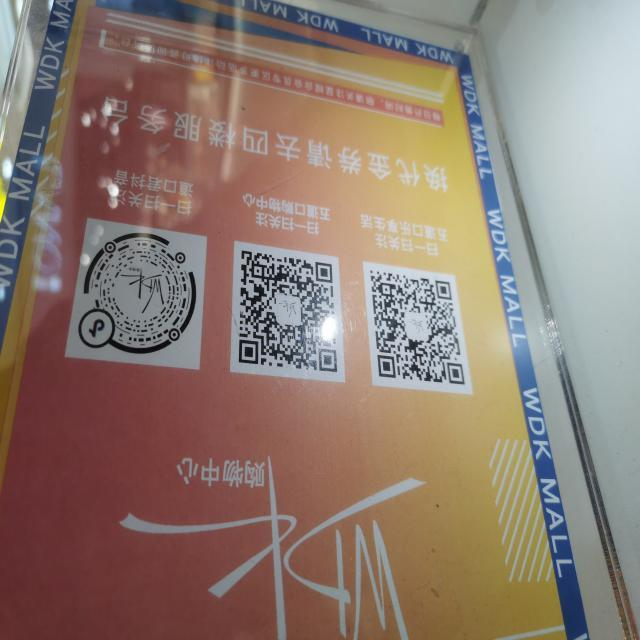qr_code: (238, 250, 338, 372), (369, 270, 465, 384)
